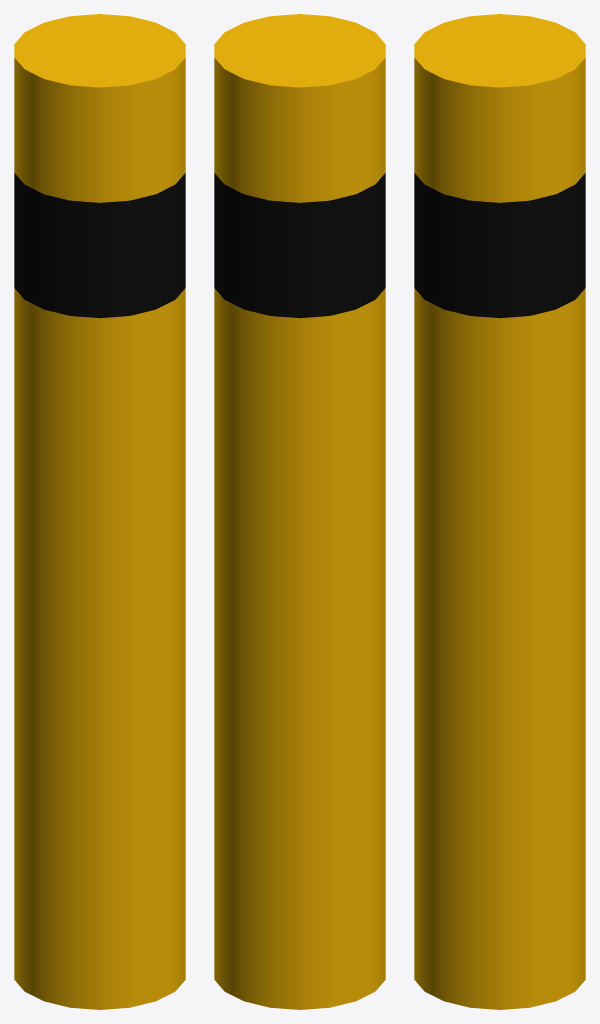
The model's file is Pile.FBX.
3 renders of one model, left to right at view 1: azimuth 30°, elevation 25°; view 2: azimuth 150°, elevation 25°; view 3: azimuth 270°, elevation 25°, orthographic.
Parts seen in each view (by area): view 1: Pile; view 2: Pile; view 3: Pile.
Part boxes in pixels (<box>): Pile: <box>14,14,185,1009</box>; Pile: <box>214,14,385,1009</box>; Pile: <box>414,14,585,1009</box>.
Bounding box in the file's own units: 3.25 × 19 × 3.2.
